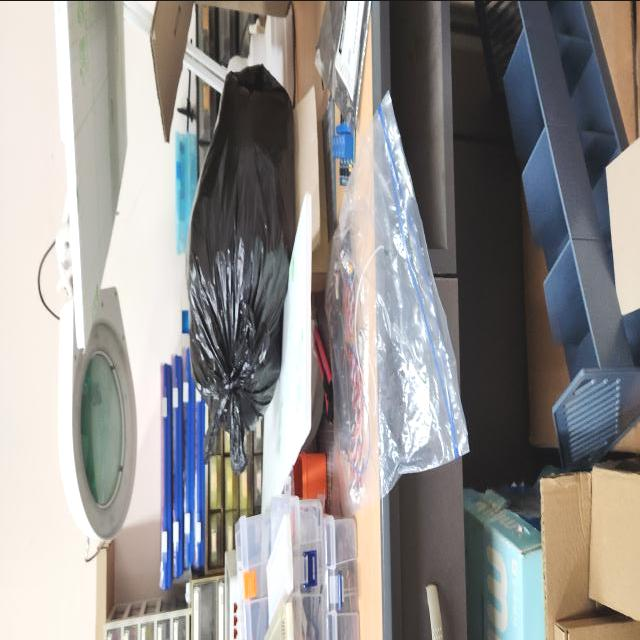black_bag: (187, 62, 297, 469)
